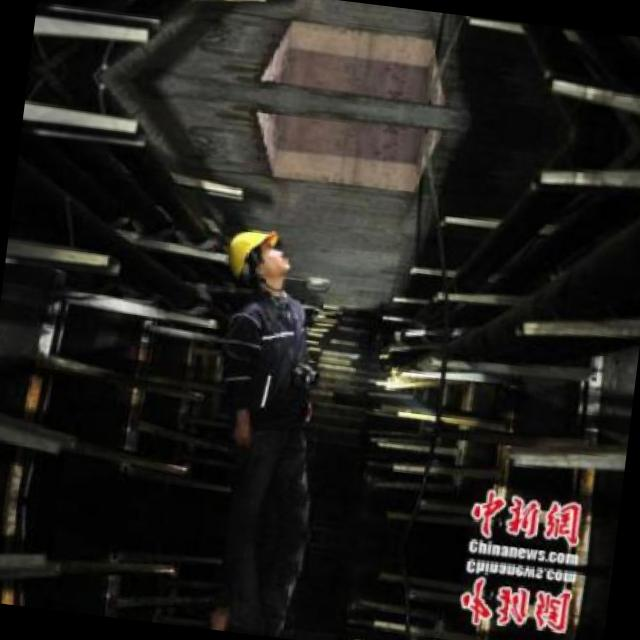helmet: (217, 220, 292, 294)
